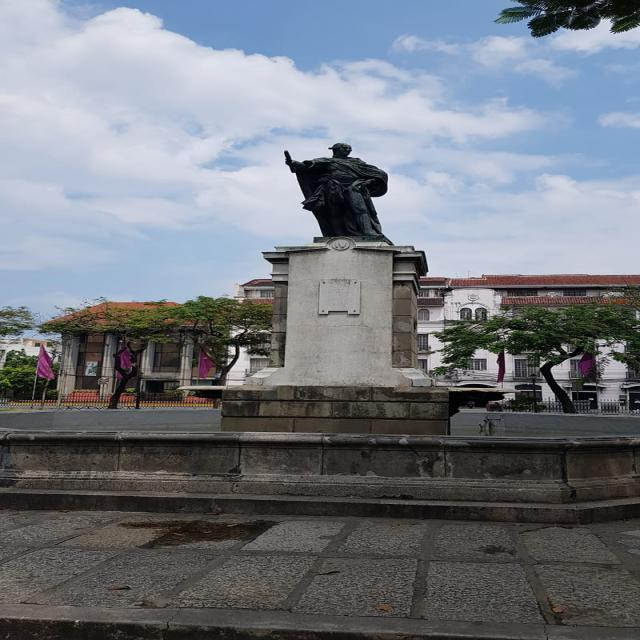King Charles IV Monument: (254, 126, 460, 434)
